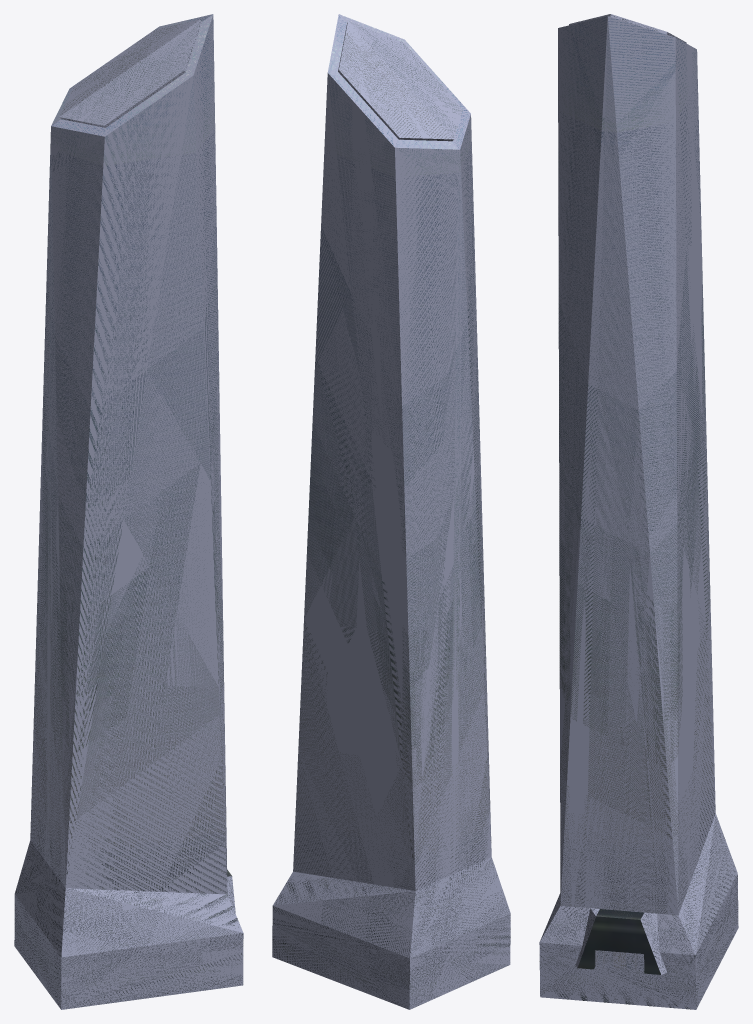
Rendered from Cristalmadrid.fbx.
3 views of the same model, side by side, from view 1: azimuth 30°, elevation 25°; view 2: azimuth 150°, elevation 25°; view 3: azimuth 270°, elevation 25° (orthographic). The views are drawn at different scales.
Visible parts, largest first — view 1: Model; view 2: Model; view 3: Model.
Part boxes in pixels (left/top/right/bottom): Model: left=14, top=14, right=243, bottom=1009; Model: left=272, top=14, right=510, bottom=1009; Model: left=539, top=14, right=738, bottom=1009.
Bounding box in the file's own units: 58.51 × 278 × 51.09.
